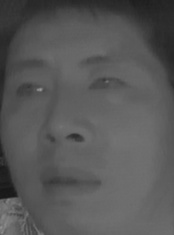eye: (85, 71, 130, 99), (13, 79, 49, 101)
mouth: (39, 164, 103, 201)
